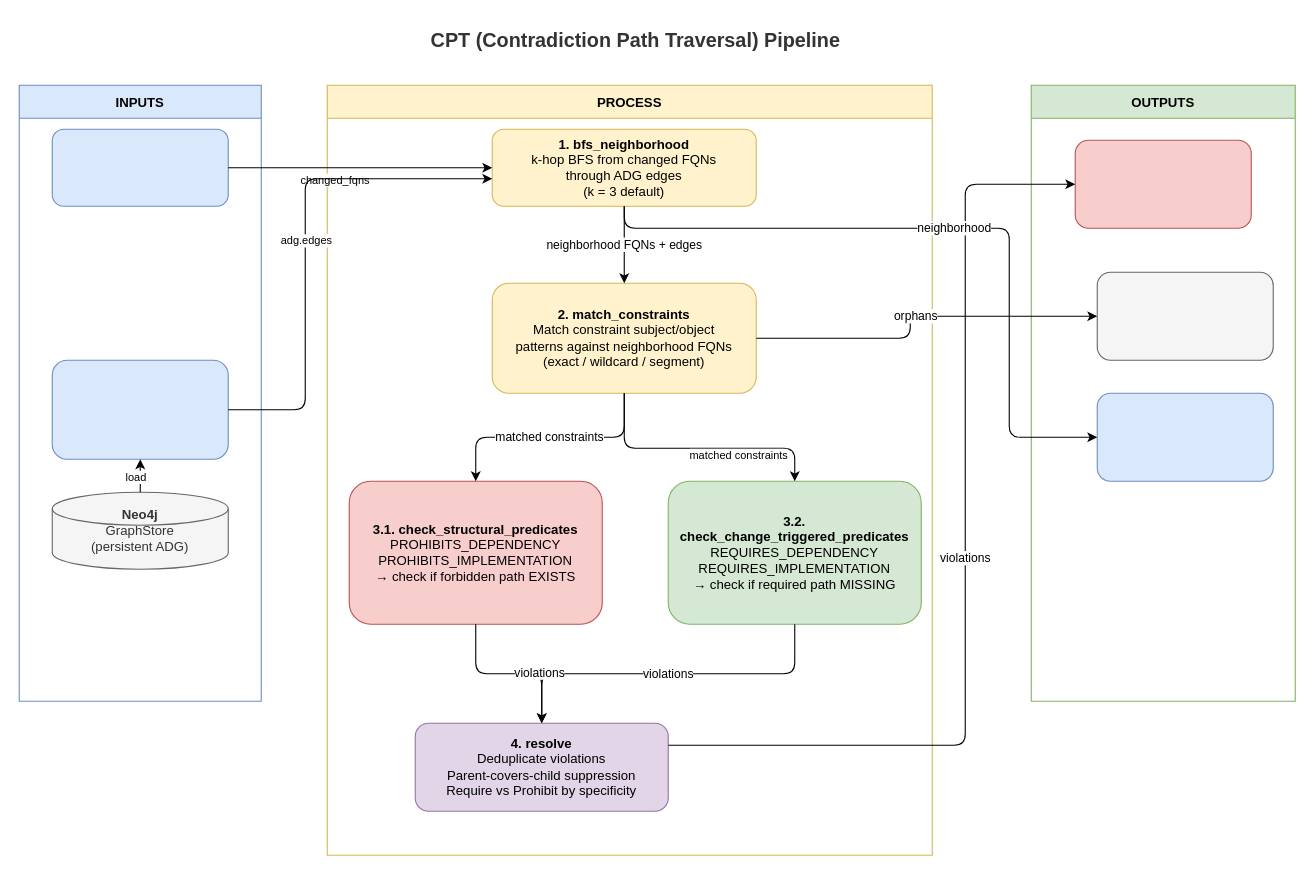
This 1315x875 diagram has some shape labels left out. Here are the shapes that lost their labels. From the top down, the centre of each, then its label:
point 139,167: DiffResult changed_fqns (added / modified / deleted)
point 1162,183: violations List[Violation] (constraint, evidence, matched_fqn, match_status)
point 1184,315: orphans List[ConstraintEdge] (constraints with no matching FQNs in neighborhood)
point 139,409: ADG nodes (FQNNode) edges (IMPORTS, CALLS, ...) constraint_edges (ADR rules)
point 1184,436: neighborhood Set[FQN] (all FQNs within k hops of changed FQNs)
